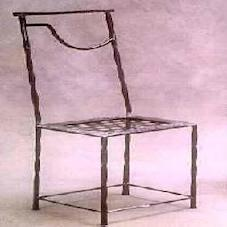chair: (4, 6, 218, 225)
